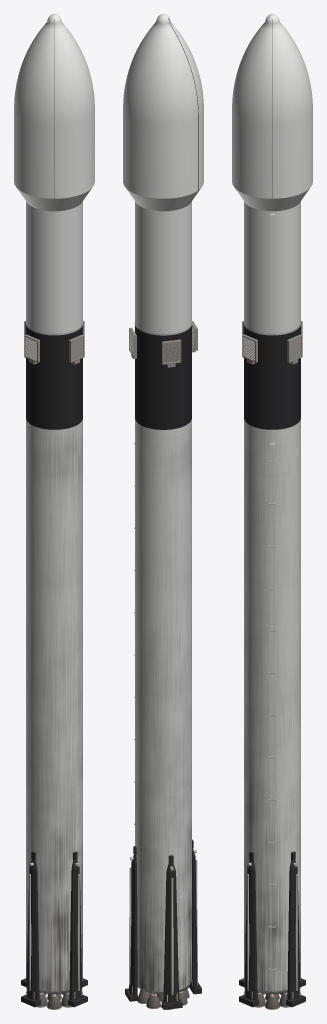
The model's file is spacex-falcon-9.glb.
3 renders of one model, left to right at view 1: azimuth 90°, elevation 25°; view 2: azimuth 150°, elevation 25°; view 3: azimuth 270°, elevation 25°, orthographic.
Visible parts, largest first — view 1: Falcon9_Block5; view 2: Falcon9_Block5; view 3: Falcon9_Block5.
Boxes of the visible parts, bbox=[...] form: Falcon9_Block5: bbox=[14, 14, 94, 1009]; Falcon9_Block5: bbox=[123, 14, 203, 1009]; Falcon9_Block5: bbox=[232, 14, 312, 1009].
Size of the model in its own units: 5.23 by 69.8 by 5.2.
Materials: 12 (1 with a texture image).
